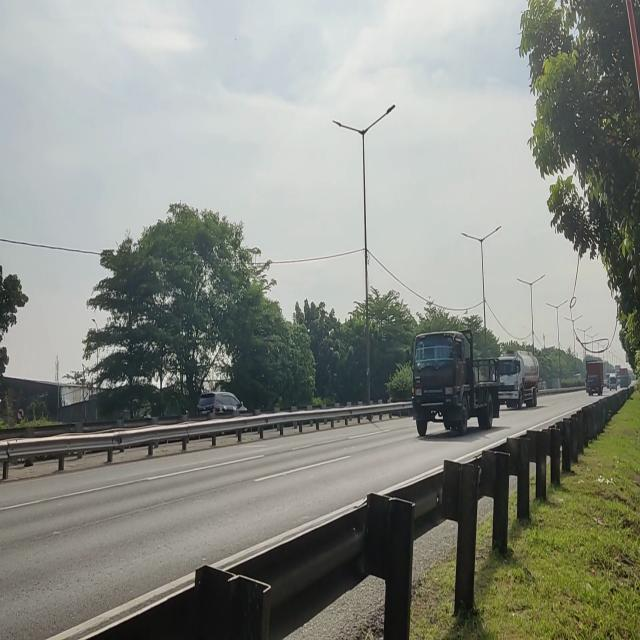Golongan II: (407, 322, 507, 440)
